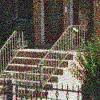stairs: (2, 50, 76, 80)
